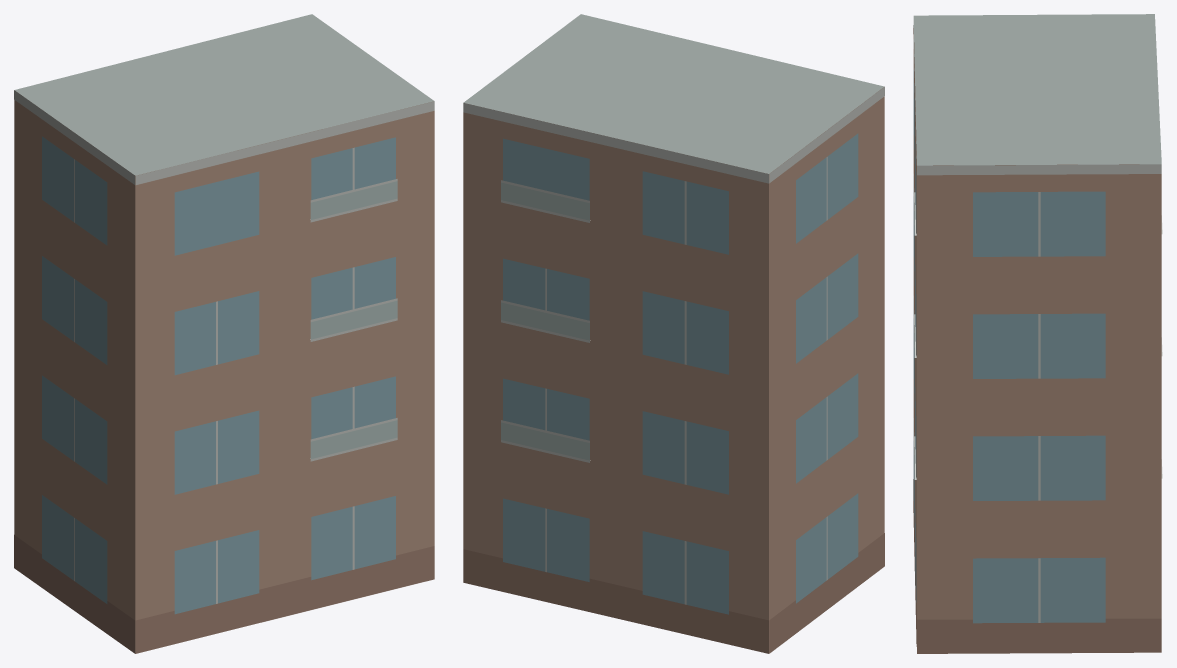
The model's file is residential-3a55aed0-53aa-4052-b051-4234fe6c9635.glb.
3 views of the same model, side by side, from view 1: azimuth 30°, elevation 25°; view 2: azimuth 150°, elevation 25°; view 3: azimuth 270°, elevation 25° (orthographic). The views are drawn at different scales.
Parts seen in each view (by area): view 1: residential-3a55aed0-53aa-4052-b051-4234fe6c9635.tmp; view 2: residential-3a55aed0-53aa-4052-b051-4234fe6c9635.tmp; view 3: residential-3a55aed0-53aa-4052-b051-4234fe6c9635.tmp.
Boxes of the visible parts, x1,y1,x2,y2 form: residential-3a55aed0-53aa-4052-b051-4234fe6c9635.tmp: (14, 14, 434, 653); residential-3a55aed0-53aa-4052-b051-4234fe6c9635.tmp: (463, 14, 884, 653); residential-3a55aed0-53aa-4052-b051-4234fe6c9635.tmp: (913, 14, 1162, 653).
Bounding box in the file's own units: 8.13 × 12.2 × 5.65.
